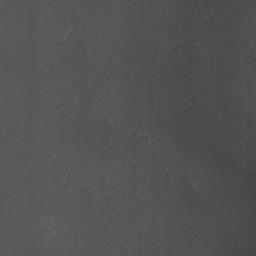Silk spot: (128, 128, 154, 176), (56, 165, 92, 194), (54, 22, 77, 48)
